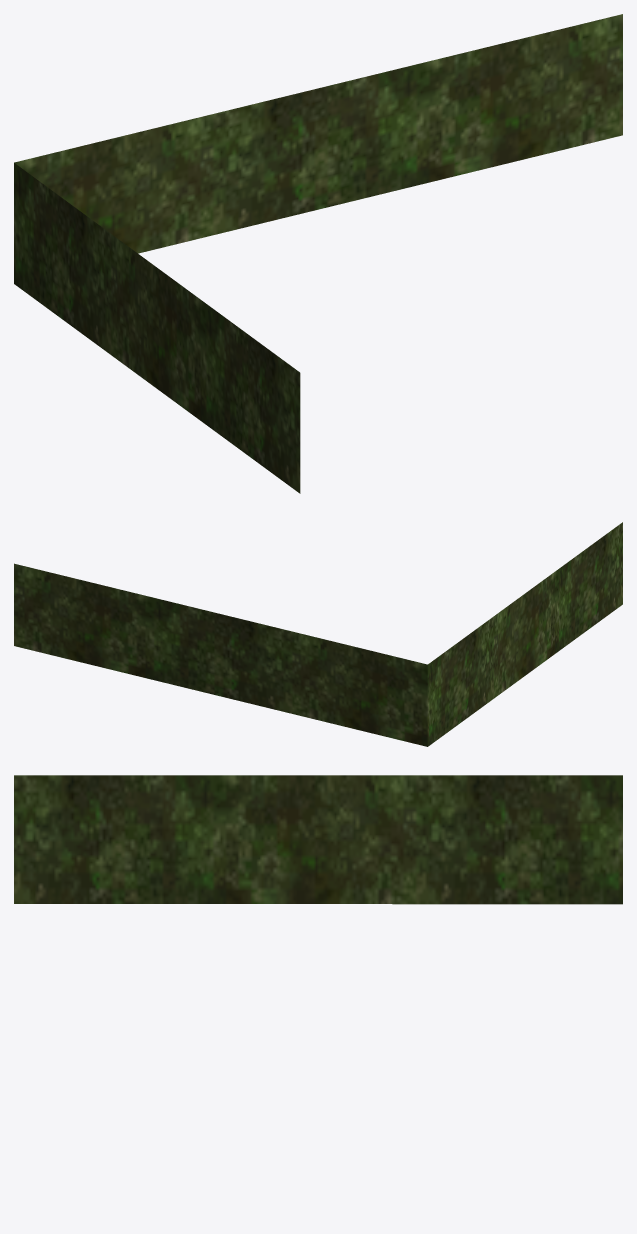
Rendered from OVERHILL_A_01_OBJECT129.fbx.
3 renders of one model, top to bottom at view 1: azimuth 30°, elevation 25°; view 2: azimuth 150°, elevation 25°; view 3: azimuth 270°, elevation 25°, orthographic. The views are drawn at different scales.
Visible parts, largest first — view 1: OVERHILL_A_01_OBJECT129; view 2: OVERHILL_A_01_OBJECT129; view 3: OVERHILL_A_01_OBJECT129.
Part boxes in pixels (x1,y1,x2,y2): OVERHILL_A_01_OBJECT129: (14,14,622,493); OVERHILL_A_01_OBJECT129: (14,522,622,746); OVERHILL_A_01_OBJECT129: (14,775,622,904).
Size of the model in its own units: 39986 by 7605 by 32591.
1 material, 1 textured.
